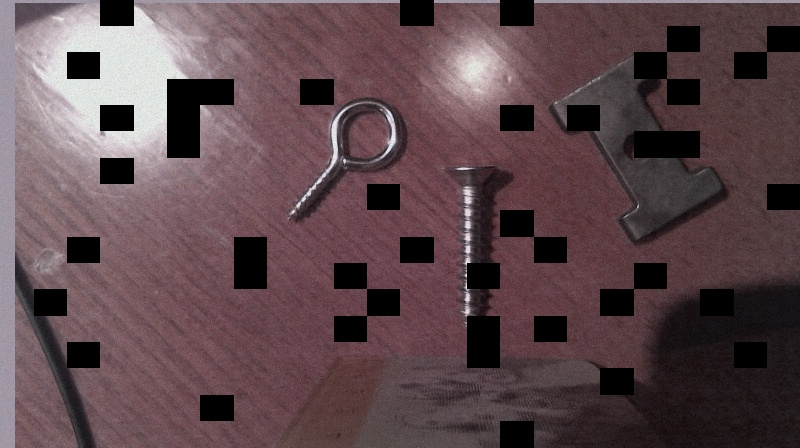O001: (281, 96, 407, 229)
O002: (548, 50, 730, 247)
S001: (438, 159, 500, 335)
